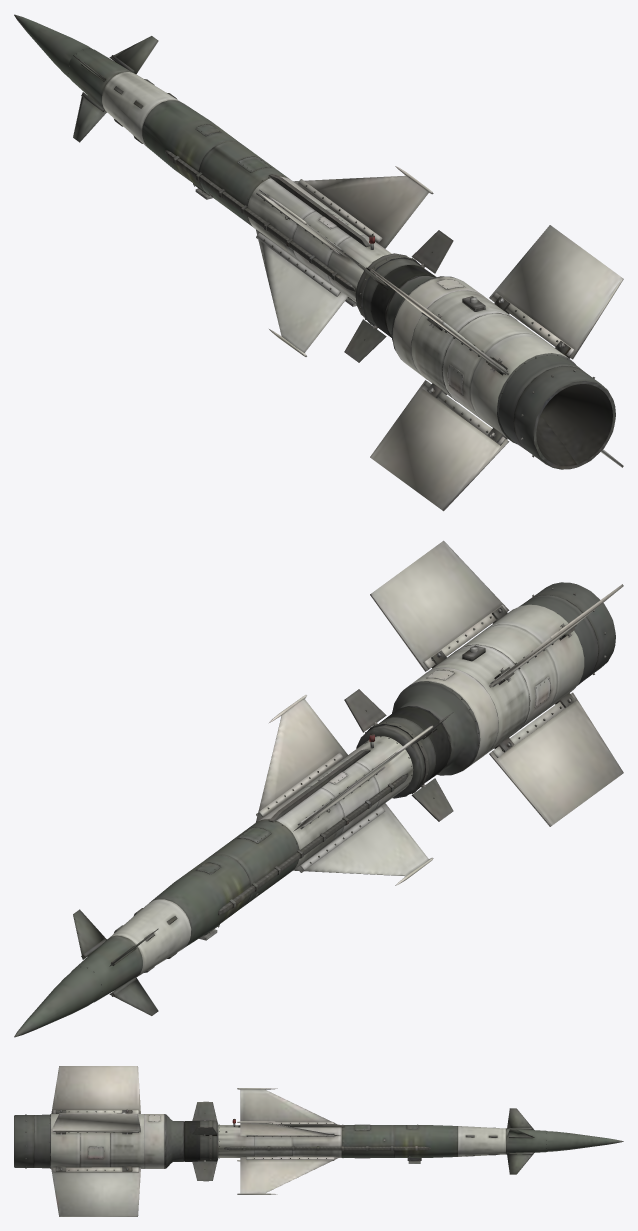
Rendered from msl_s125_lo.glb.
3 views of the same model, one above another, from view 1: azimuth 30°, elevation 25°; view 2: azimuth 150°, elevation 25°; view 3: azimuth 270°, elevation 25° (orthographic). The views are drawn at different scales.
Parts seen in each view (by area): view 1: booster|V27_paint, missile|V27_paint; view 2: booster|V27_paint, missile|V27_paint; view 3: booster|V27_paint, missile|V27_paint.
Boxes of the visible parts, <box> form: booster|V27_paint: <box>355,225,623,511</box>; missile|V27_paint: <box>14,14,453,362</box>; booster|V27_paint: <box>356,540,623,826</box>; missile|V27_paint: <box>14,689,453,1037</box>; booster|V27_paint: <box>14,1066,218,1216</box>; missile|V27_paint: <box>192,1088,623,1194</box>.
Bounding box in the file's own units: 1.14 × 1.14 × 6.09.
Materials: 2 (2 with a texture image).
